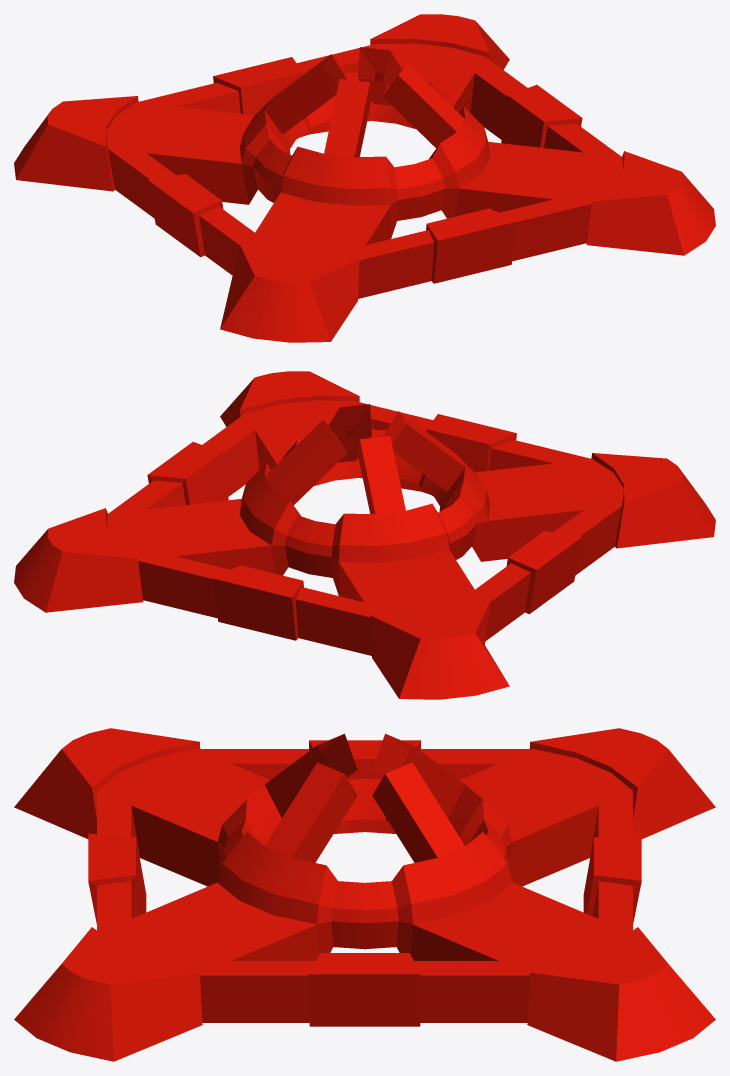
The model's file is Mod_BaseMechaPlatform.fbx.
The picture shows the model from 3 angles, top to bottom: view 1: azimuth 30°, elevation 25°; view 2: azimuth 150°, elevation 25°; view 3: azimuth 270°, elevation 25°; orthographic projection. The views are drawn at different scales.
Parts seen in each view (by area): view 1: Mod_BaseMechaPlatform; view 2: Mod_BaseMechaPlatform; view 3: Mod_BaseMechaPlatform.
Part boxes in pixels (left/top/right/bottom): Mod_BaseMechaPlatform: left=14, top=14, right=715, bottom=342; Mod_BaseMechaPlatform: left=14, top=371, right=715, bottom=699; Mod_BaseMechaPlatform: left=14, top=728, right=715, bottom=1061.
Bounding box in the file's own units: 543 × 137 × 543.
